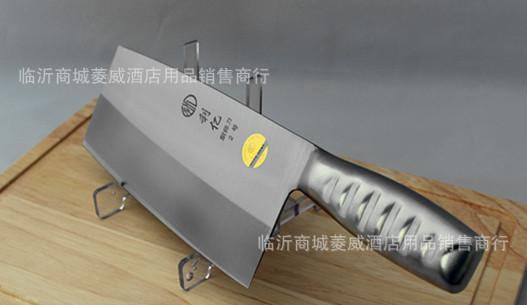knief: (76, 57, 479, 284)
